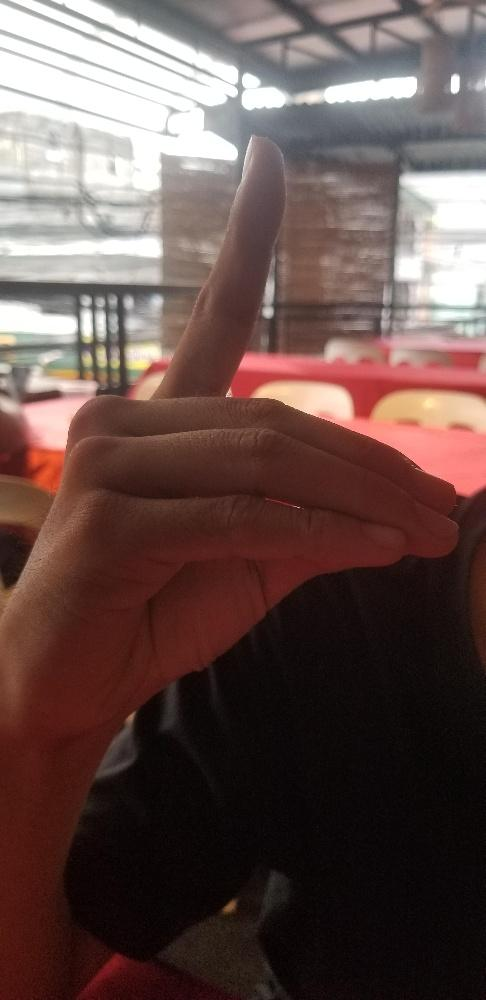d: (11, 130, 466, 725)
